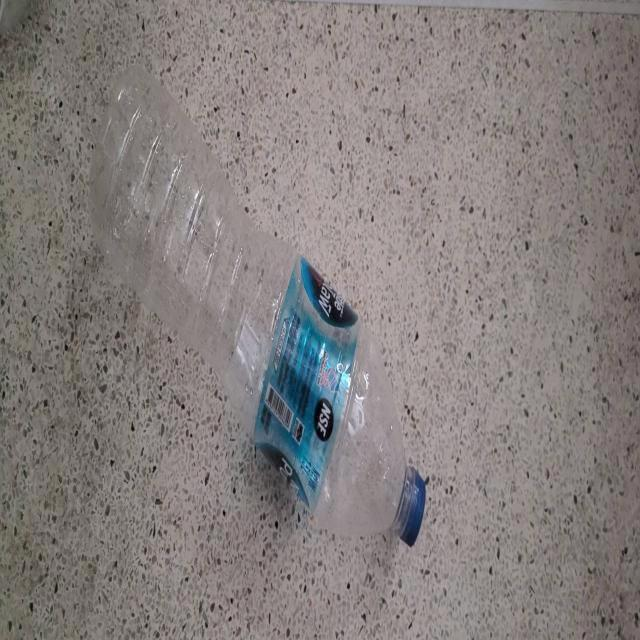bottle: (90, 65, 426, 548)
